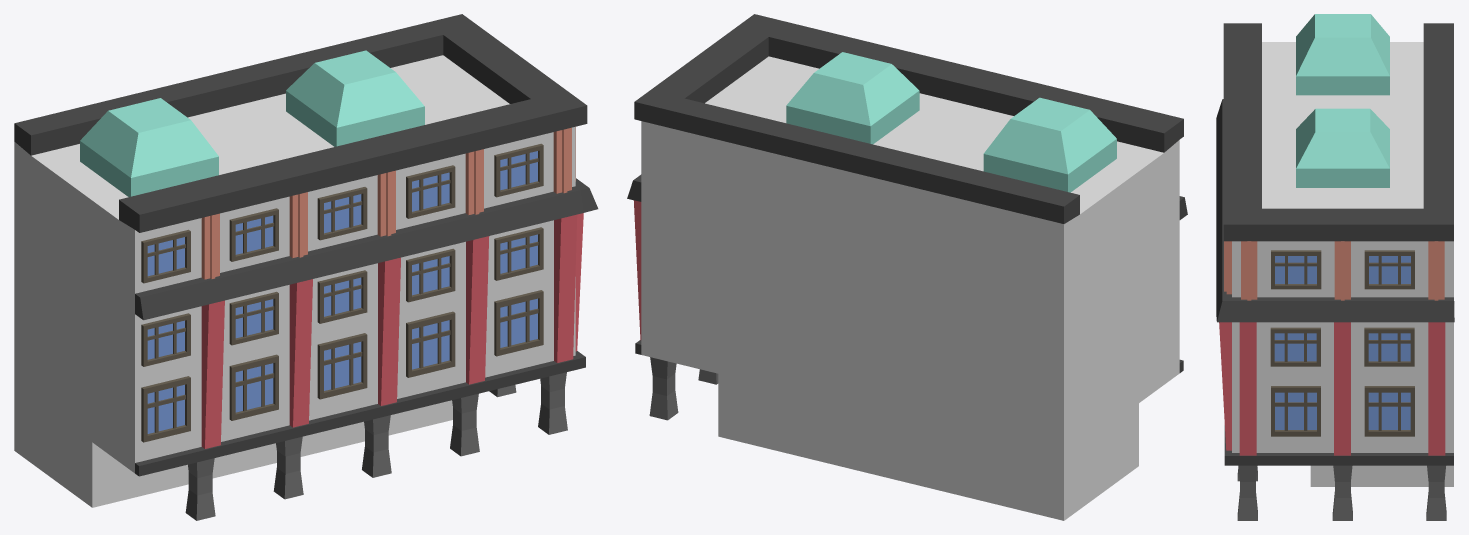
Rendered from PalazzoModAngoloDx.fbx.
The picture shows the model from 3 angles, left to right: view 1: azimuth 30°, elevation 25°; view 2: azimuth 150°, elevation 25°; view 3: azimuth 270°, elevation 25°; orthographic projection. The views are drawn at different scales.
Visible parts, largest first — view 1: PalazzoStatutoAngoloDx; view 2: PalazzoStatutoAngoloDx; view 3: PalazzoStatutoAngoloDx.
Part boxes in pixels (x1,y1,x2,y2): PalazzoStatutoAngoloDx: (14,14,598,520); PalazzoStatutoAngoloDx: (627,14,1187,520); PalazzoStatutoAngoloDx: (1216,14,1454,520).
Bounding box in the file's own units: 2183 × 1656 × 1074.
